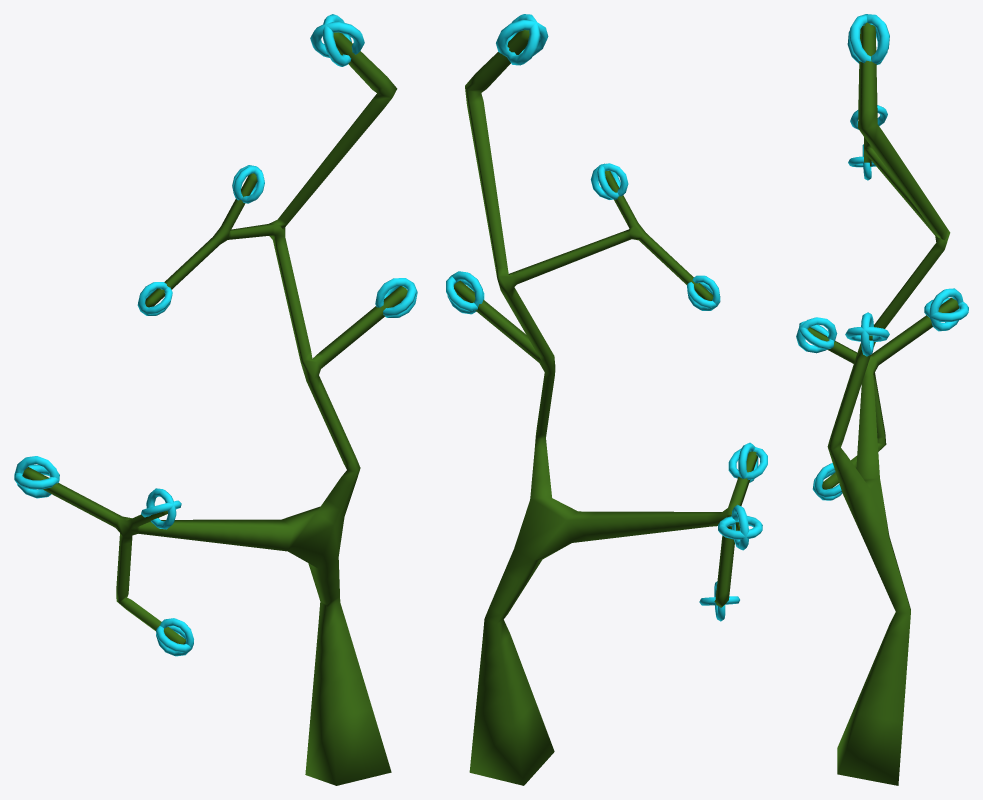
Rendered from Thistle.fbx.
3 renders of one model, left to right at view 1: azimuth 30°, elevation 25°; view 2: azimuth 150°, elevation 25°; view 3: azimuth 270°, elevation 25°, orthographic.
Parts seen in each view (by area): view 1: ThistleBranch, Thistle; view 2: ThistleBranch, Thistle; view 3: ThistleBranch, Thistle.
Boxes of the visible parts, left/top/right/bottom form: ThistleBranch: left=22, top=32, right=407, bottom=785; Thistle: left=14, top=14, right=417, bottom=656; ThistleBranch: left=453, top=30, right=757, bottom=785; Thistle: left=446, top=14, right=767, bottom=621; ThistleBranch: left=807, top=22, right=958, bottom=785; Thistle: left=796, top=14, right=968, bottom=500.
Size of the model in its own units: 0.9907 by 0.4216 by 2.02.
2 materials, 2 textured.
